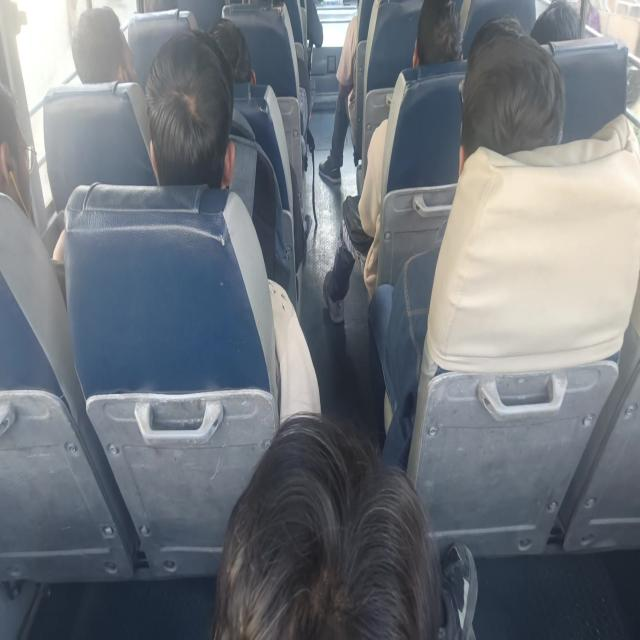person: (191, 424, 482, 640), (468, 30, 582, 165), (155, 43, 228, 202), (0, 67, 42, 223), (67, 0, 129, 96), (198, 19, 262, 90), (530, 0, 588, 60), (408, 3, 459, 66)
